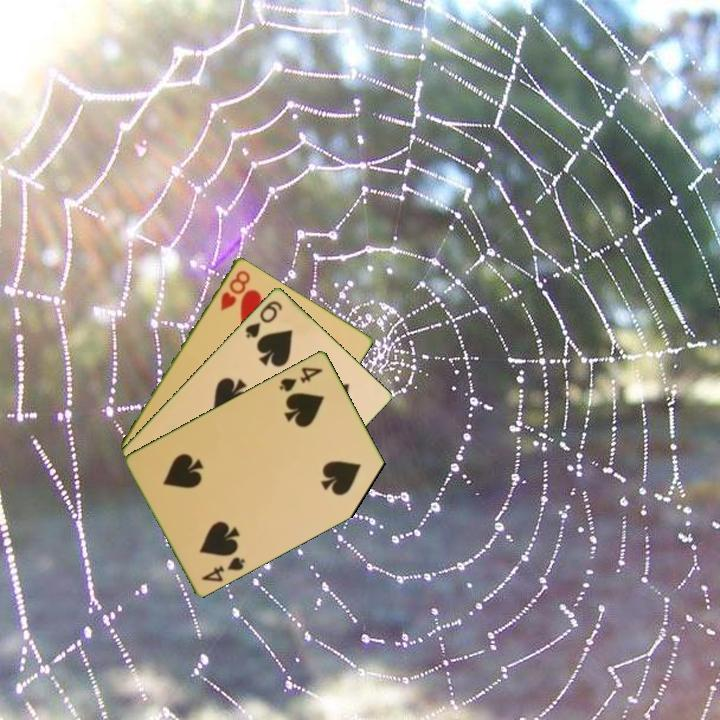4s: (198, 553, 248, 585), (275, 363, 326, 394)
6s: (241, 297, 285, 341)
8h: (217, 266, 253, 313)
